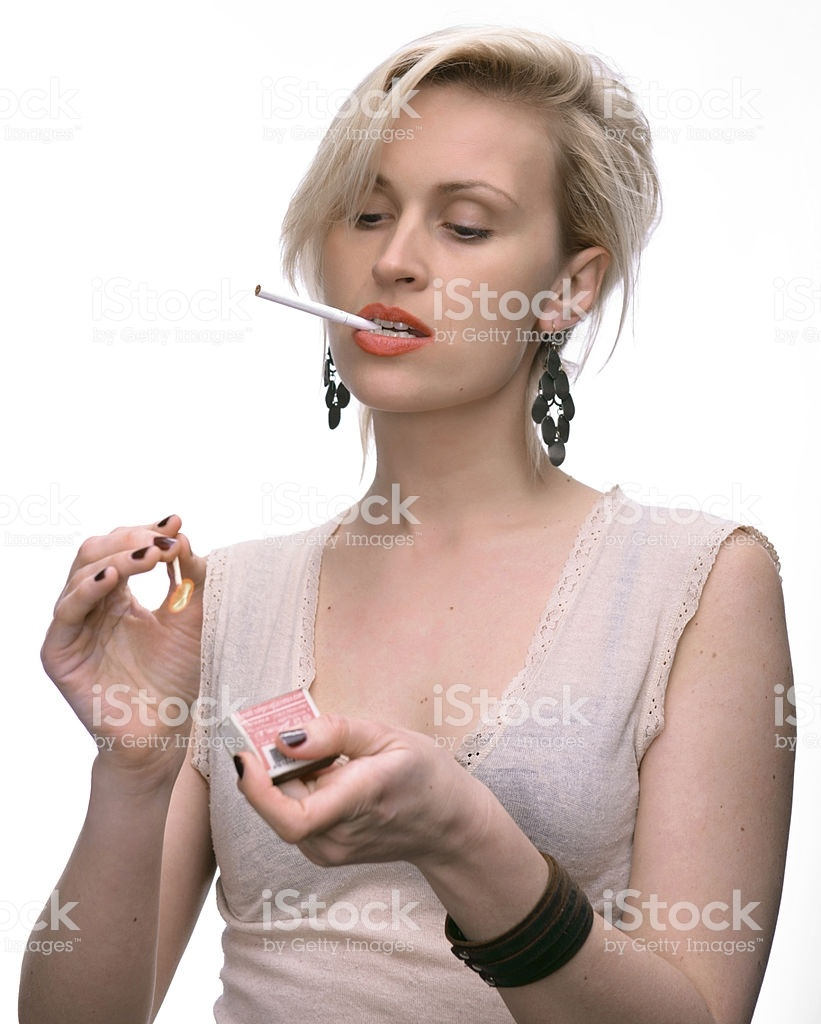sigaretta: (246, 275, 397, 339)
